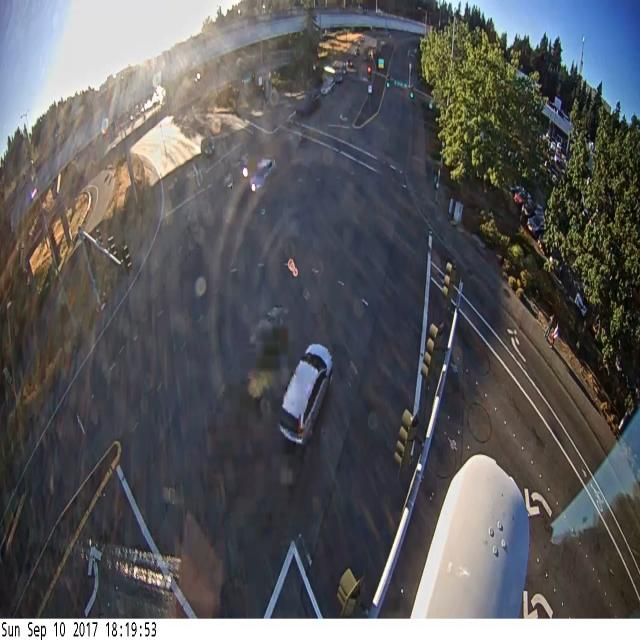car: (279, 344, 332, 444), (250, 157, 276, 192), (297, 94, 319, 116), (527, 216, 544, 239), (574, 292, 587, 317), (201, 136, 214, 156), (522, 201, 536, 217), (321, 79, 334, 95), (514, 190, 524, 205), (335, 72, 343, 83), (347, 58, 353, 68), (355, 48, 360, 55)
large car: (335, 71, 343, 83)
pedestrian: (545, 314, 554, 341), (550, 325, 558, 349)
